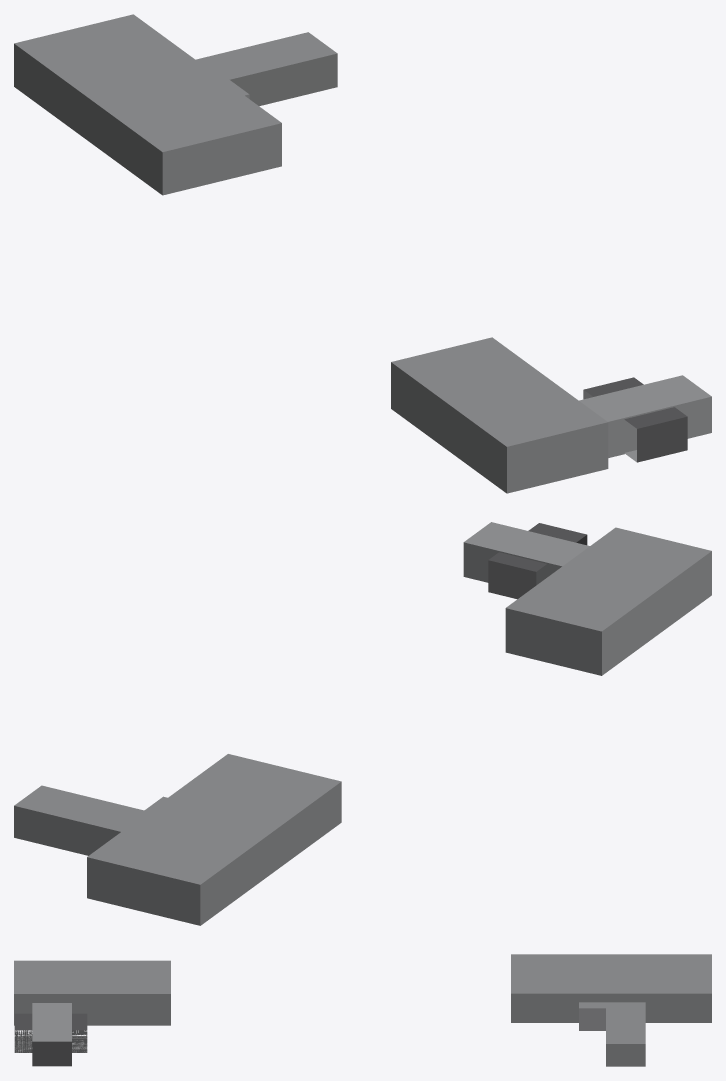
3 renders of one model, top to bottom at view 1: azimuth 30°, elevation 25°; view 2: azimuth 150°, elevation 25°; view 3: azimuth 270°, elevation 25°, orthographic. The views are drawn at different scales.
Size of the model in its own units: 0.3791 by 0.0943 by 1.26.
